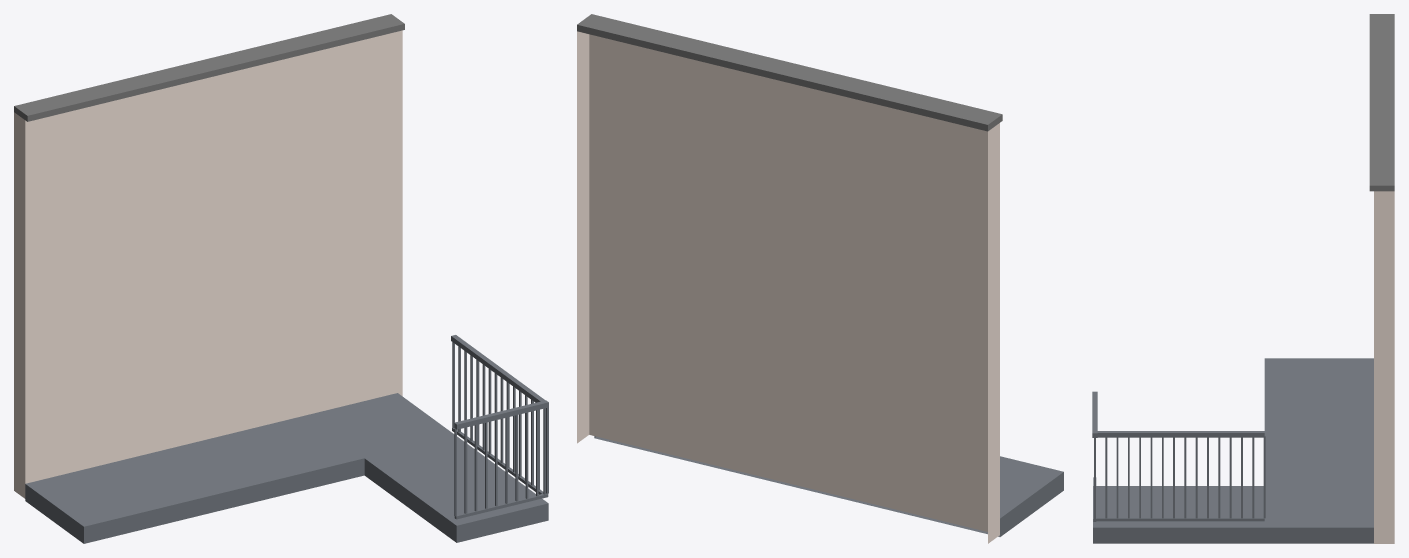
Rendered from top-stair_close.fbx.
The picture shows the model from 3 angles, left to right: view 1: azimuth 30°, elevation 25°; view 2: azimuth 150°, elevation 25°; view 3: azimuth 270°, elevation 25°; orthographic projection. The views are drawn at different scales.
Parts seen in each view (by area): view 1: a2001/200/top-stair_close; view 2: a2001/200/top-stair_close; view 3: a2001/200/top-stair_close.
Part boxes in pixels (box(x1,y1,x2,y2)): a2001/200/top-stair_close: box(14, 14, 548, 543); a2001/200/top-stair_close: box(577, 14, 1063, 543); a2001/200/top-stair_close: box(1092, 14, 1394, 543).
Bounding box in the file's own units: 3.9 × 3.82 × 2.91.
